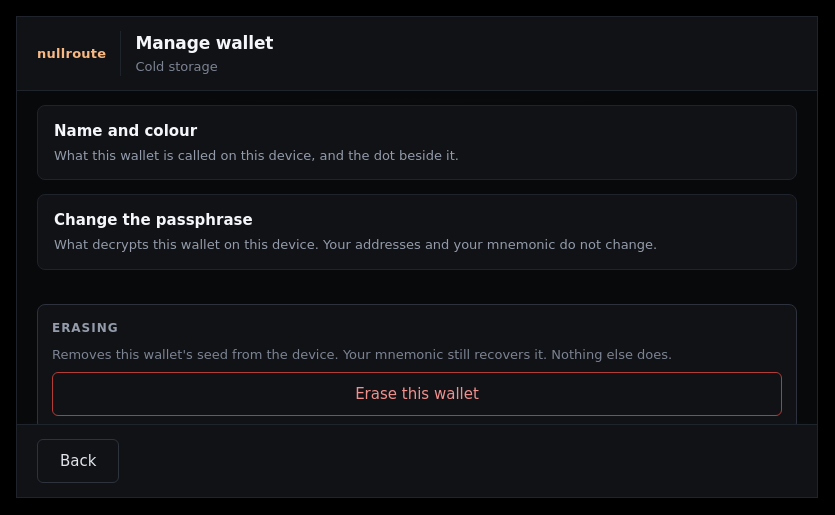
Scenario: ManageWalletScreen passphrase change › reports-a-refusal-rather-than-claiming-it-changed
This screenshot has width=835, height=515.
Click the button with test id "manage-choose-passphrase" at (153, 220), box [37,194,797,270]
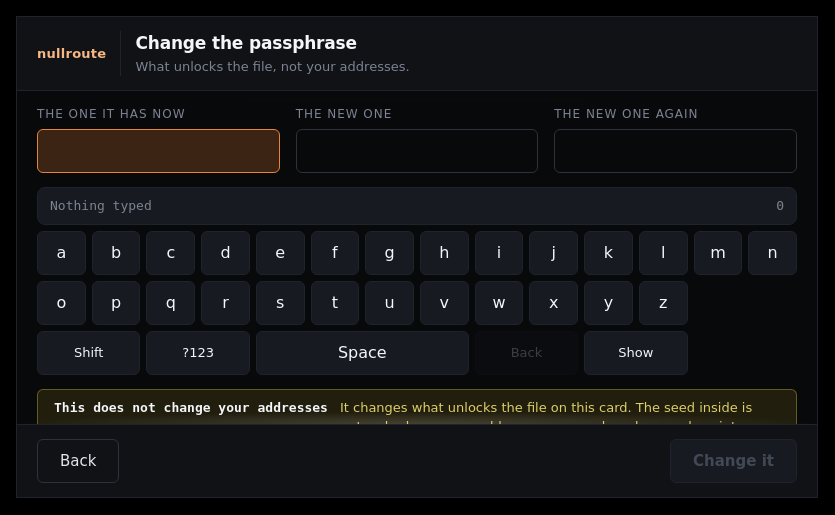
Type "wrong" into the password field with test id "manage-passphrase-old" at (158, 151), box [37,129,280,173]
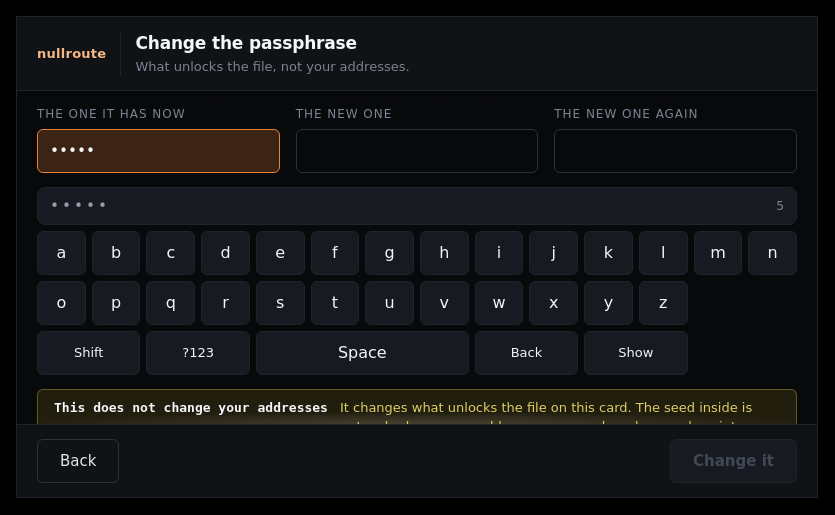
Type "a new one" into the password field with test id "manage-passphrase-new" at (417, 151), box [296,129,538,173]
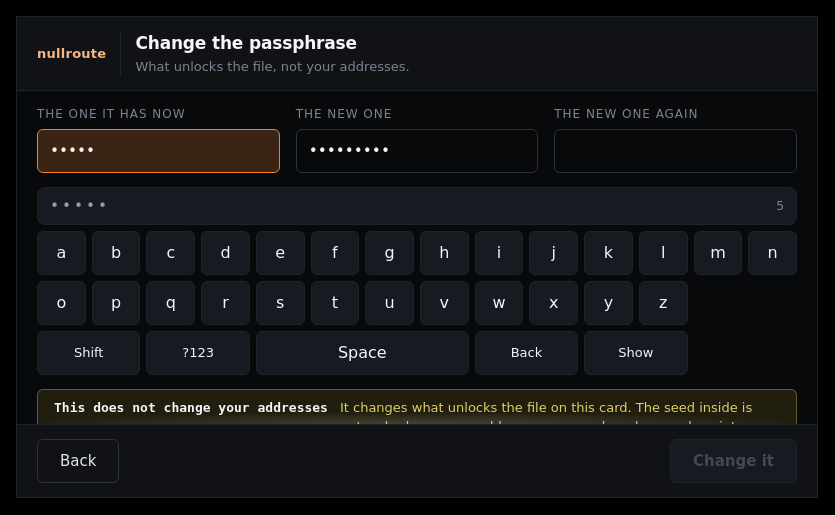
Type "a new one" into the password field with test id "manage-passphrase-confirm" at (676, 151), box [554,129,797,173]
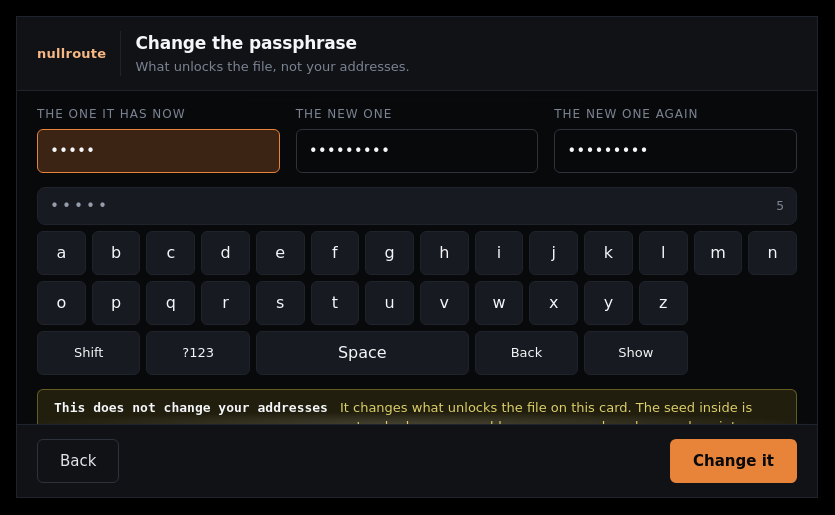
Click the button with test id "manage-passphrase-submit" at (734, 461), box [670,439,797,483]
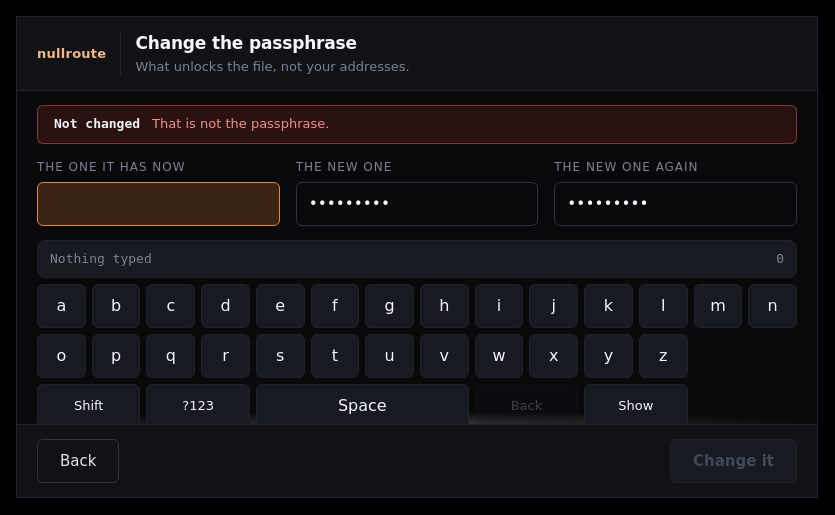
Expected: the element with test id "manage-passphrase-error" is shown, [37,105,797,144]
Expected: the element with test id "manage-passphrase-error" shows "Not changed", [54,116,140,131]
